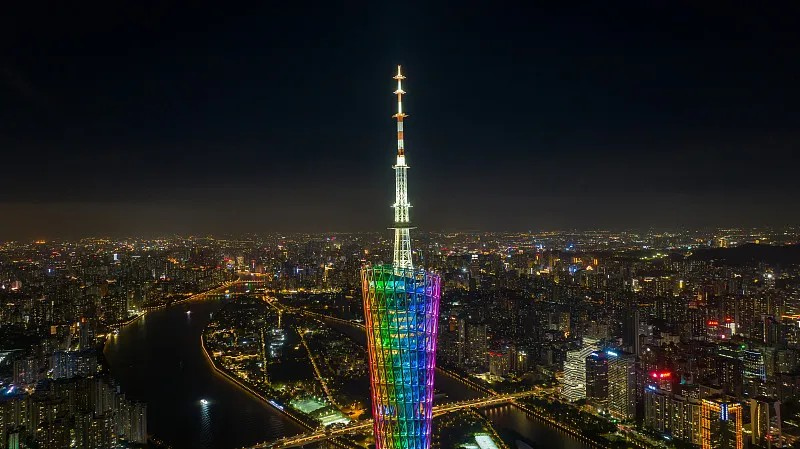Canton: (359, 62, 443, 449)
